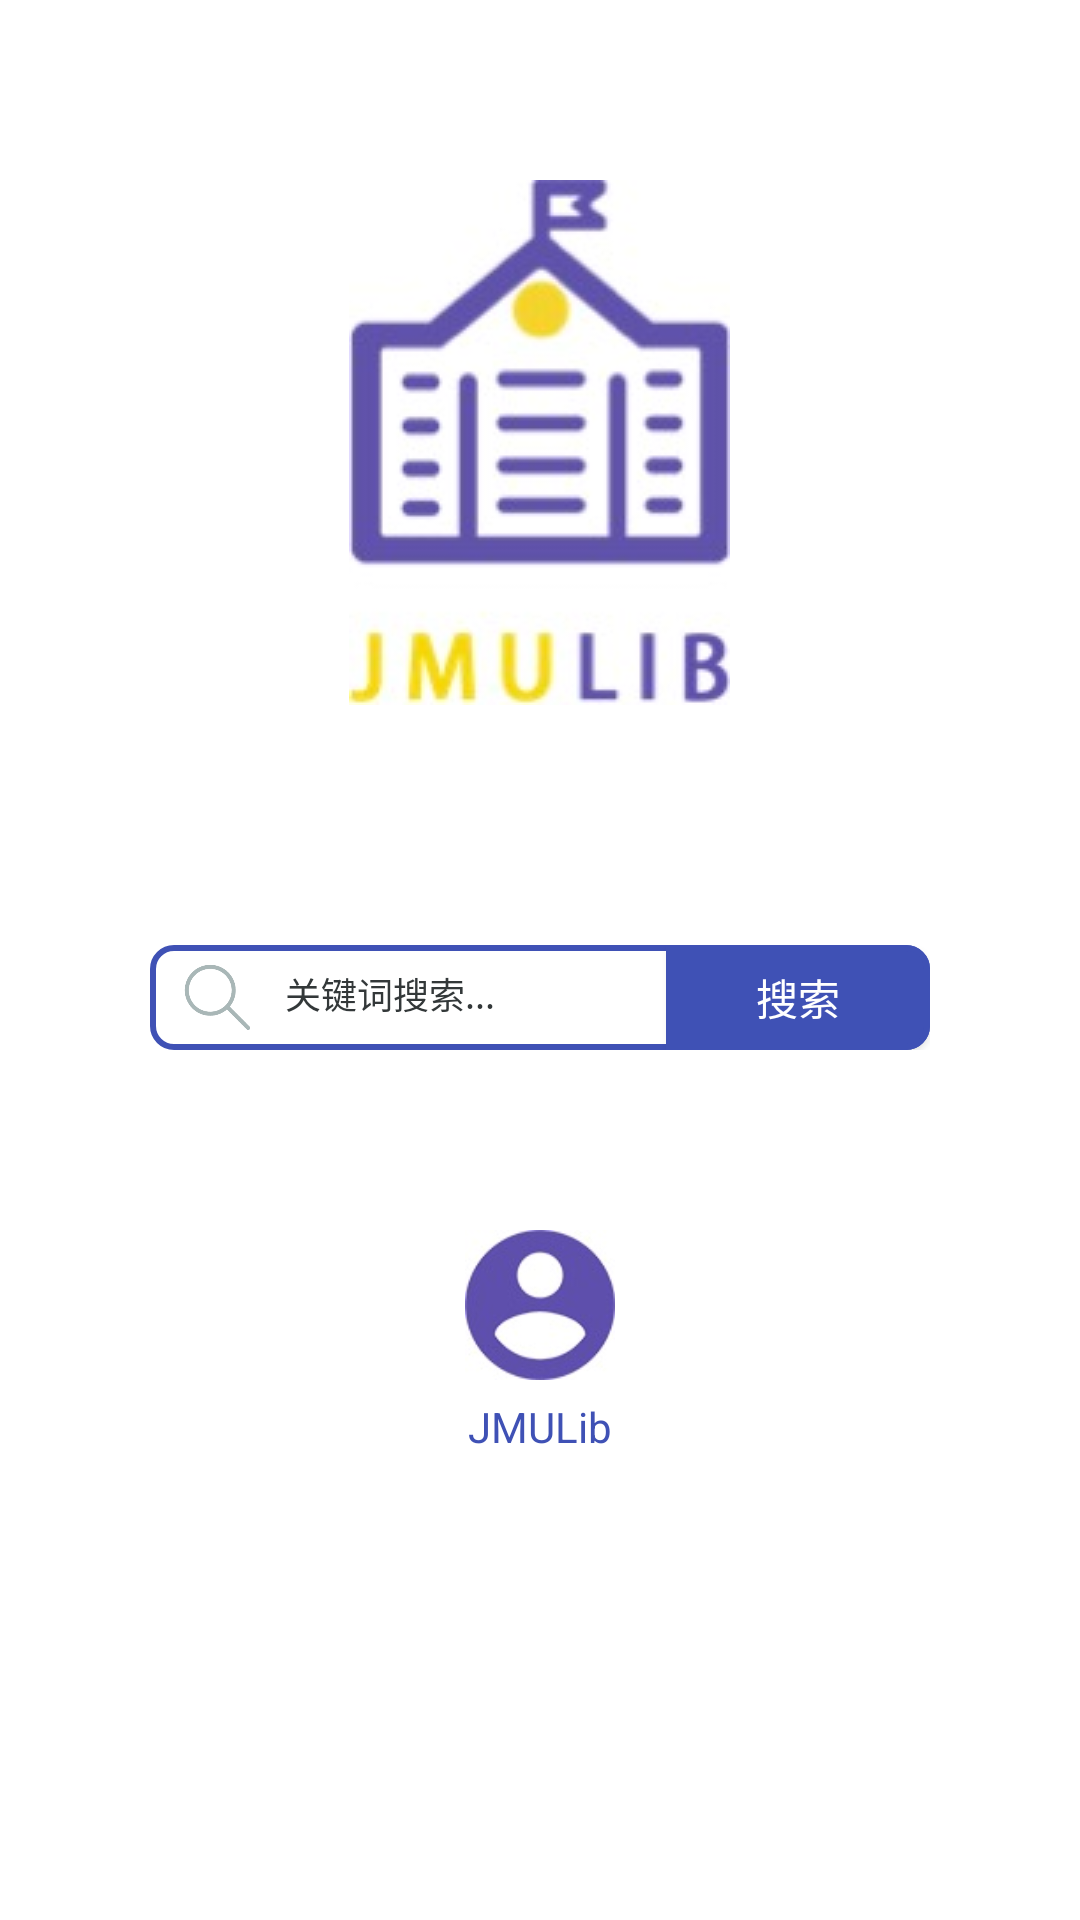

Named icons in this screenshot (1080w x 1920h) and their centers, point (x, y):
search: point (217, 997)
user: point (540, 1305)
